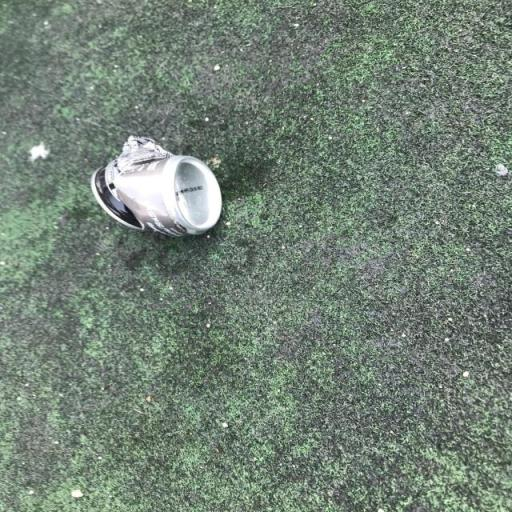metal: (64, 128, 234, 250)
